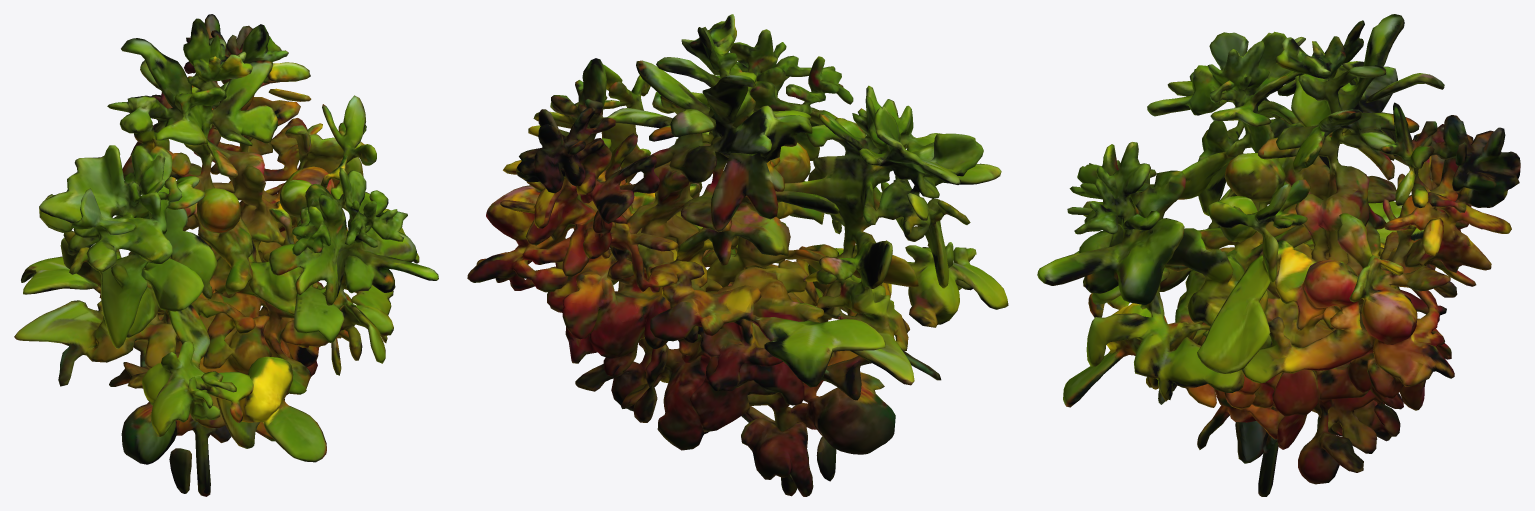
The model's file is ashwagandha.glb.
3 renders of one model, left to right at view 1: azimuth 30°, elevation 25°; view 2: azimuth 150°, elevation 25°; view 3: azimuth 270°, elevation 25°, orthographic. The views are drawn at different scales.
Visible parts, largest first — view 1: Mesh_0; view 2: Mesh_0; view 3: Mesh_0.
Part boxes in pixels (x1,y1,x2,y2): Mesh_0: (14,14,438,496); Mesh_0: (467,14,1008,496); Mesh_0: (1037,14,1520,496).
Size of the model in its own units: 1.77 by 2 by 1.76.
1 material, 1 textured.
